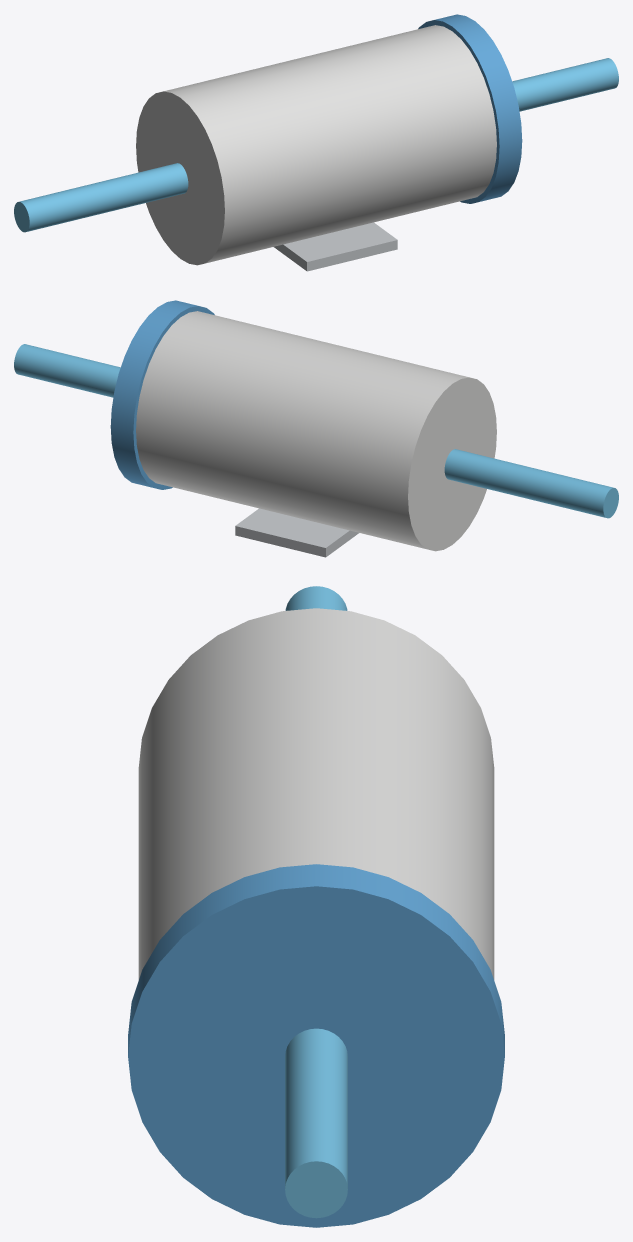
Rendered from filter-alb.glb.
The picture shows the model from 3 angles, top to bottom: view 1: azimuth 30°, elevation 25°; view 2: azimuth 150°, elevation 25°; view 3: azimuth 270°, elevation 25°; orthographic projection. The views are drawn at different scales.
Bounding box in the file's own units: 260 × 73.5 × 72.
